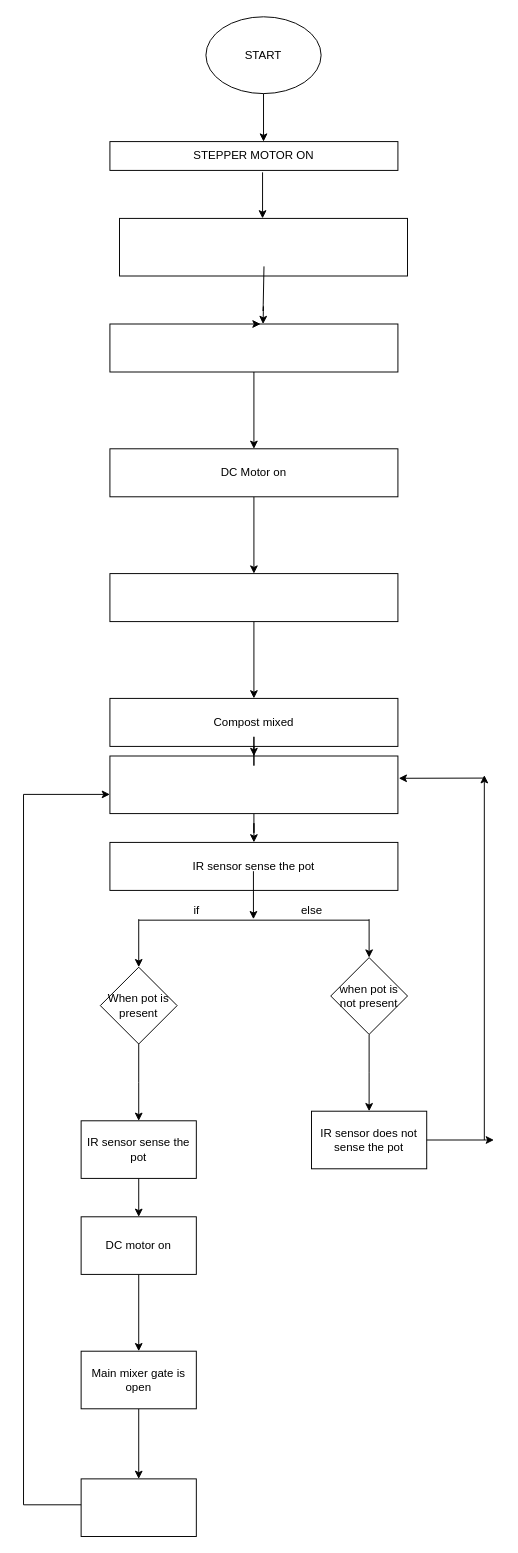
Image size: 518x1553. Some labels were removed from this diagram. Each missing label, with the box of its shape:
Blades starts rotating: (109, 573, 398, 622)
container having different material(small container)valves open: (119, 217, 408, 276)
dispensing the compost in the pot: (80, 1478, 196, 1536)
main container accepting the material from the small container.: (109, 323, 398, 372)
roover moves forward in search of pot: (109, 755, 398, 814)
